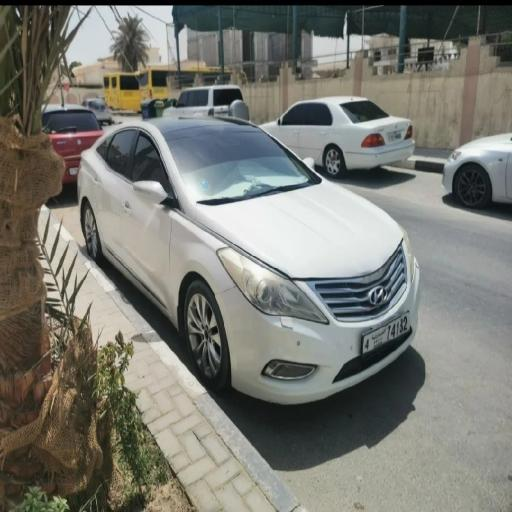license-plates: (362, 311, 410, 355)
